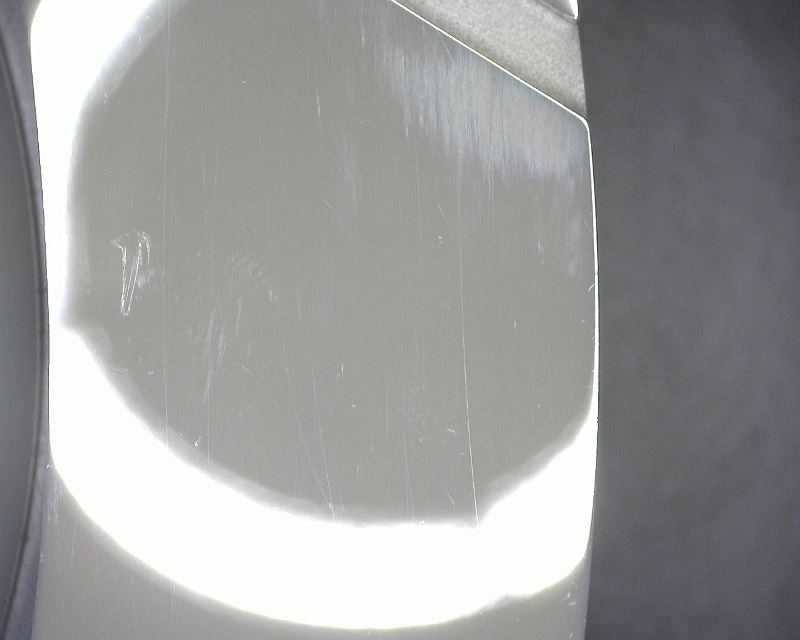scratch: (114, 228, 155, 317), (463, 374, 481, 514), (203, 304, 227, 402), (458, 176, 469, 367), (312, 90, 325, 127), (536, 239, 547, 255)
